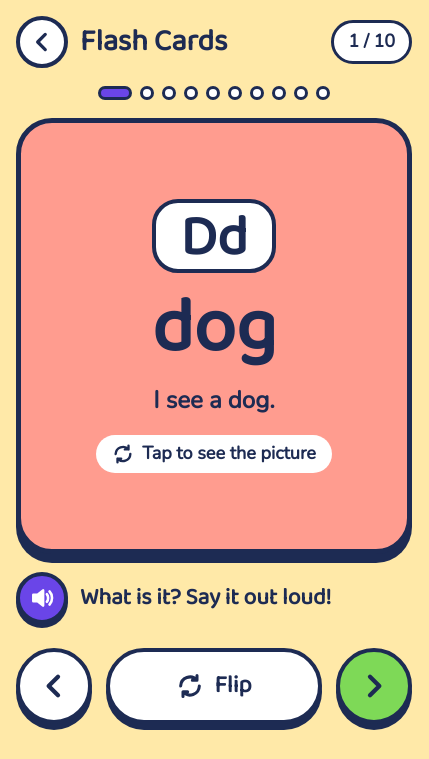
Test case: FlashCards screen › shows a New word sticker on a new card and says so in its label
The width and height of the screenshot is (429, 759).
Click the button named "Next card" at (374,686), box [336,648,412,724]
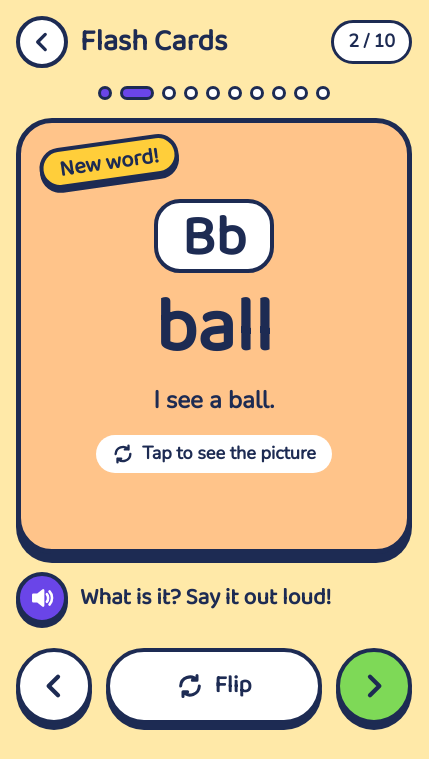
Now the text "2 / 10" is shown, box [331,20,412,64]
Now the text with class "flash-card__sticker" reads "New word!", box [57,138,161,188]
Now the button with aria-label "New word! Word: ball. I see a ball. Tap to see the picture" is shown, box [16,118,412,554]
Click the button "Flip" at (214,686), box [106,648,322,724]
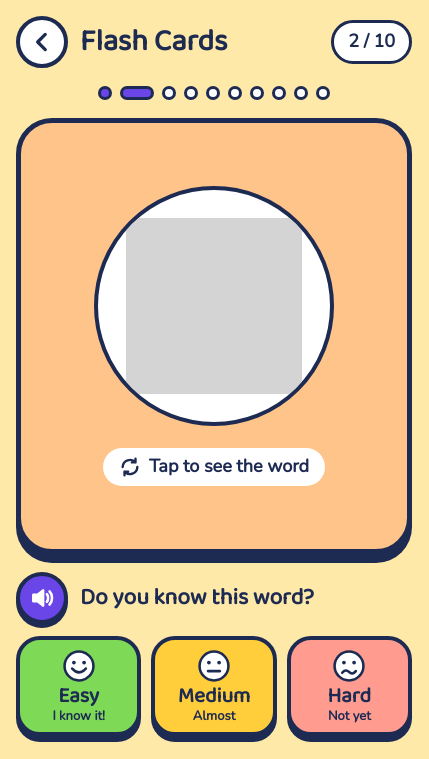
Now the button with aria-label "New word! Picture card. Tap to see the word" is shown, box [16,118,412,554]
